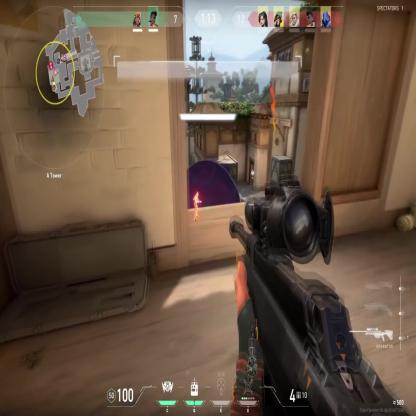enemy: (192, 189, 201, 222)
enemy_head: (196, 192, 199, 198)
